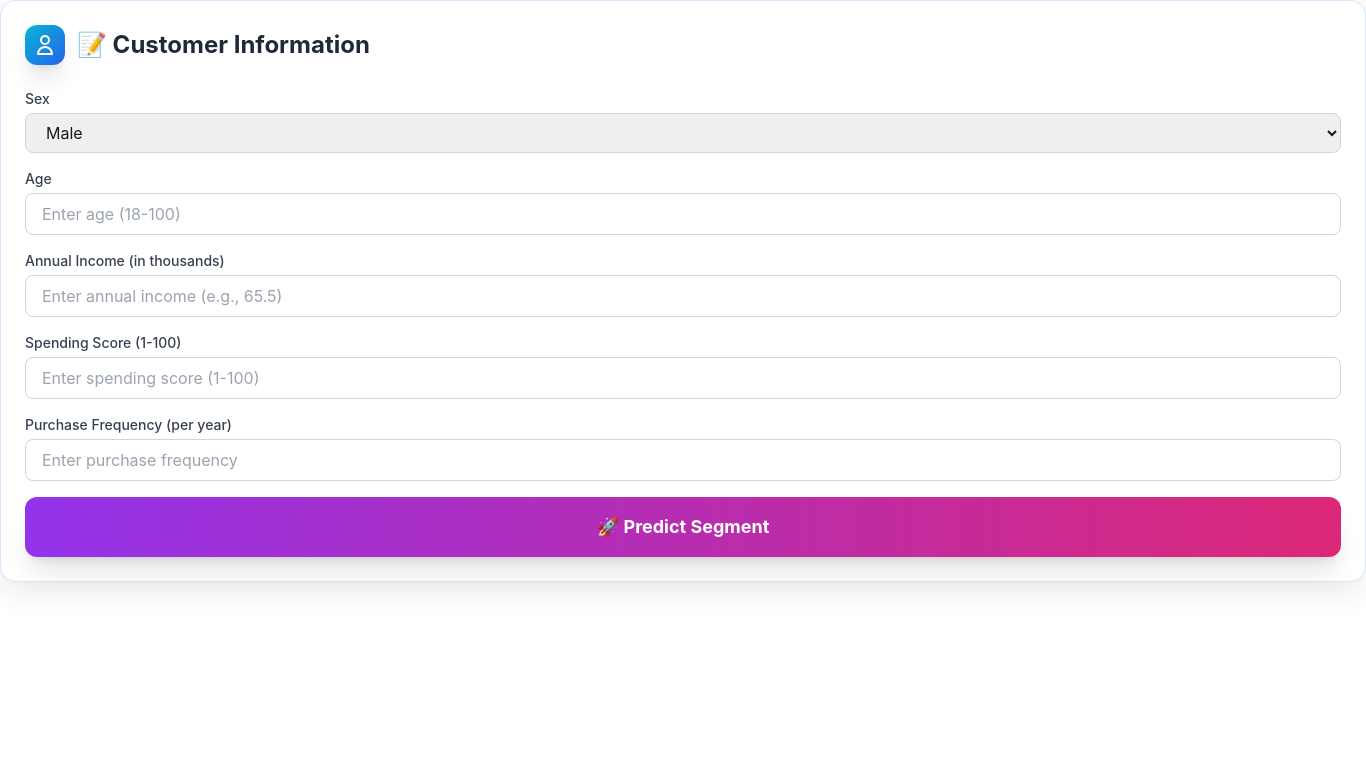
Scenario: CustomerForm › displays validation errors for empty fields
Click the button "🚀 Predict Segment".
click(683, 527)  # box [25,497,1341,557]
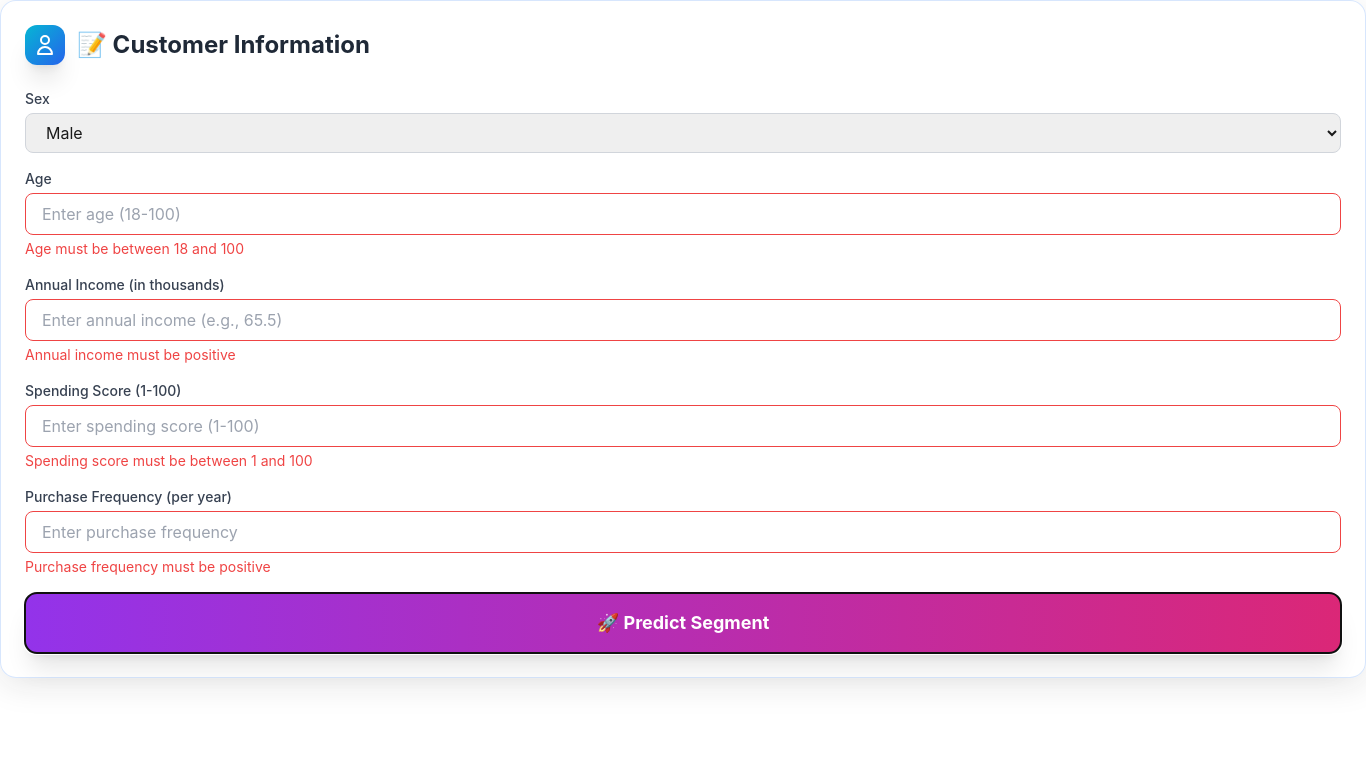
Check: the text "Age must be between 18 and 100" is shown, box [25,240,244,257]
Check: the text "Annual income must be positive" is shown, box [25,346,236,363]
Check: the text "Spending score must be between 1 and 100" is shown, box [25,452,313,469]
